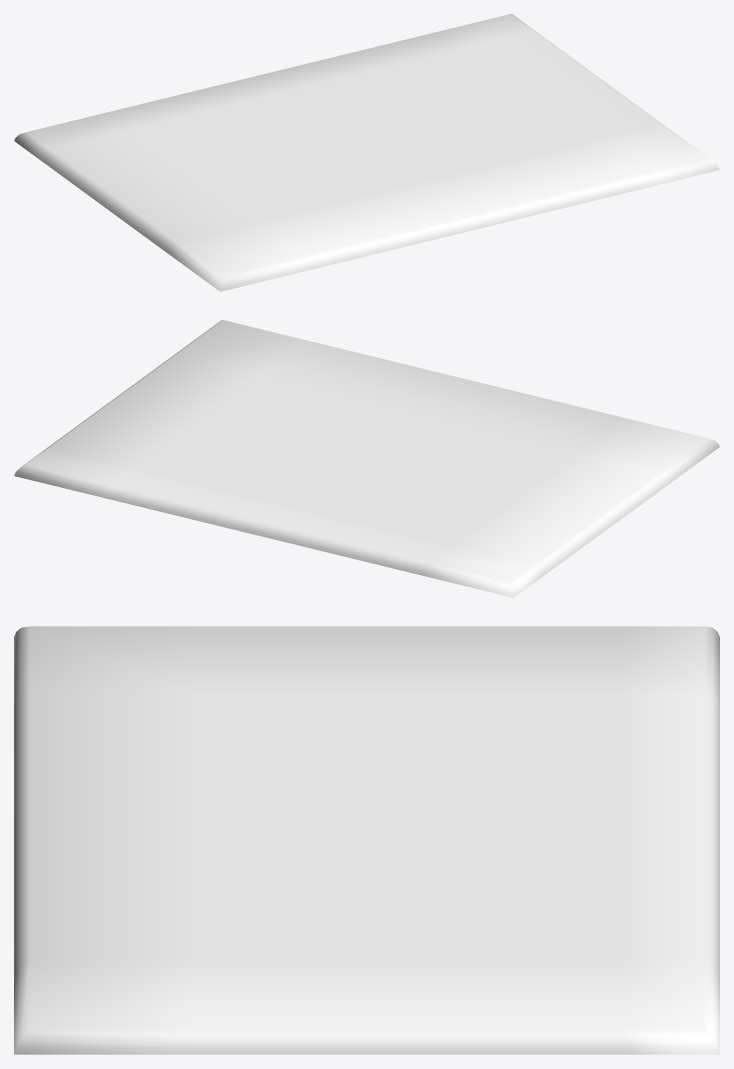
File: Platform_XLarge.fbx
The picture shows the model from 3 angles, top to bottom: view 1: azimuth 30°, elevation 25°; view 2: azimuth 150°, elevation 25°; view 3: azimuth 270°, elevation 25°; orthographic projection. The views are drawn at different scales.
Parts seen in each view (by area): view 1: Plane.003; view 2: Plane.003; view 3: Plane.003.
Boxes of the visible parts, x1,y1,x2,y2 form: Plane.003: [14, 14, 719, 291]; Plane.003: [14, 320, 719, 597]; Plane.003: [14, 626, 719, 1054].
Bounding box in the file's own units: 2147 × 42.22 × 1535.
